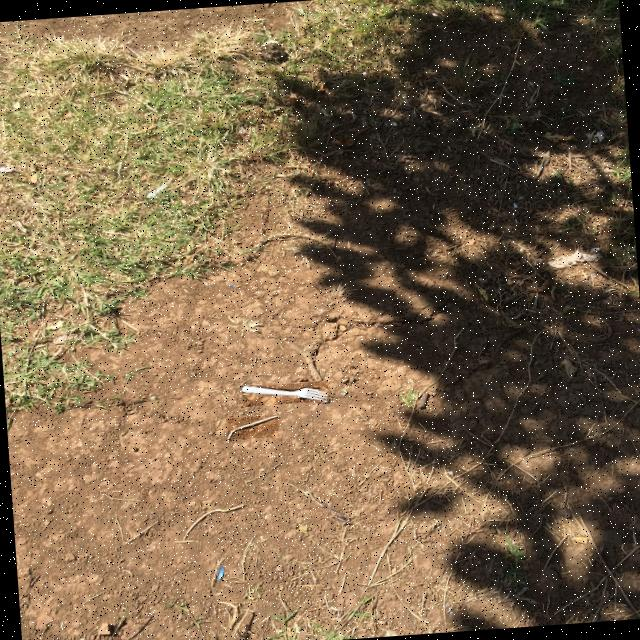Other plastic bottle: (218, 566, 224, 580)
Plastic straw: (227, 416, 278, 440)
Plastic utensils: (242, 387, 328, 401)
